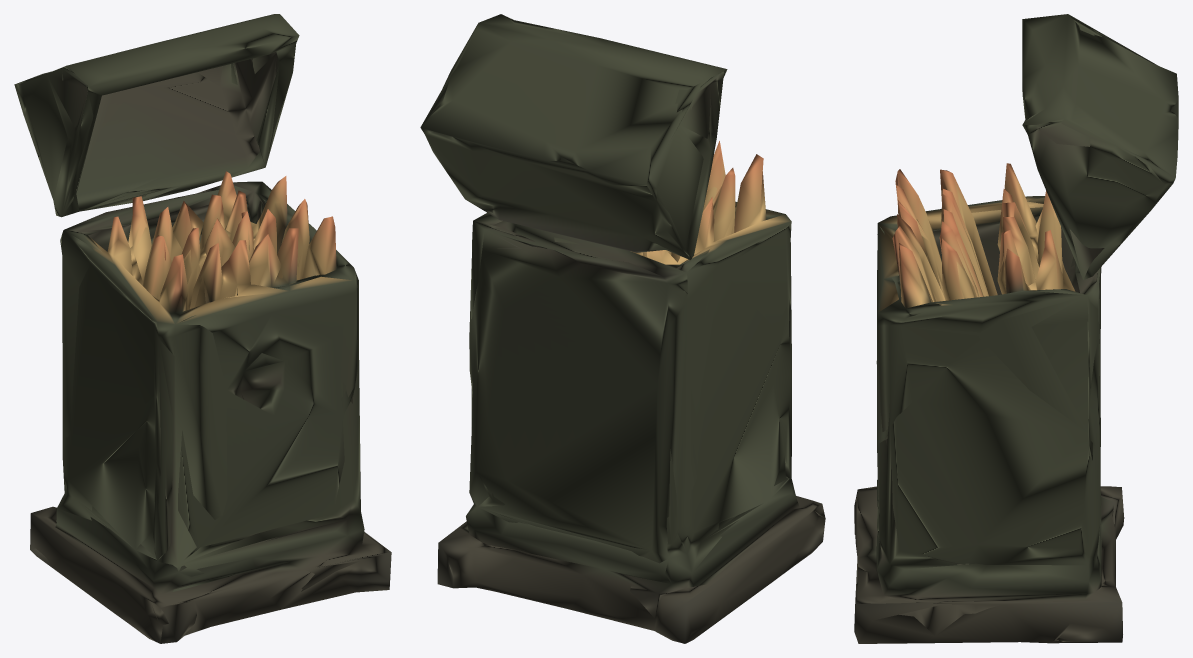
Rendered from gen3d-ammo-lod0.glb.
3 renders of one model, left to right at view 1: azimuth 30°, elevation 25°; view 2: azimuth 150°, elevation 25°; view 3: azimuth 270°, elevation 25°, orthographic. The views are drawn at different scales.
Visible parts, largest first — view 1: part_0; view 2: part_0; view 3: part_0.
Boxes of the visible parts, box(x1,y1,x2,y2) form: part_0: box(14, 14, 391, 643); part_0: box(420, 14, 825, 643); part_0: box(854, 14, 1178, 643).
Size of the model in its own units: 0.4849 by 0.9995 by 0.5645.
